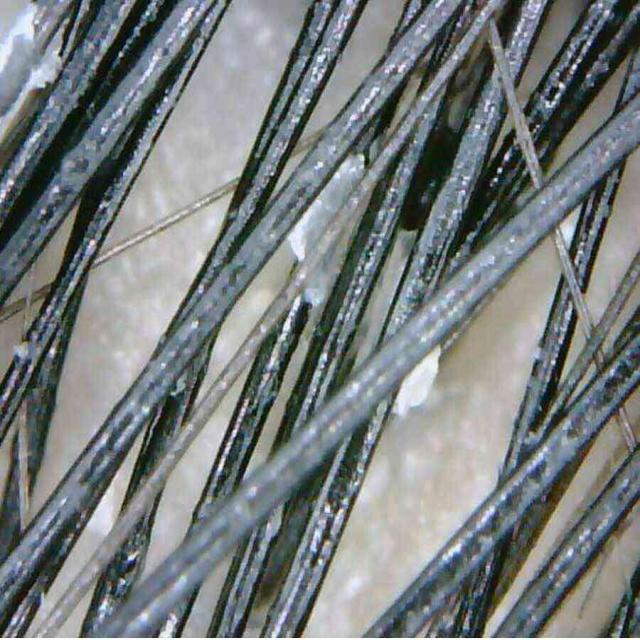d: (0, 0, 79, 170), (282, 149, 366, 266), (391, 340, 444, 420), (304, 287, 325, 306)
